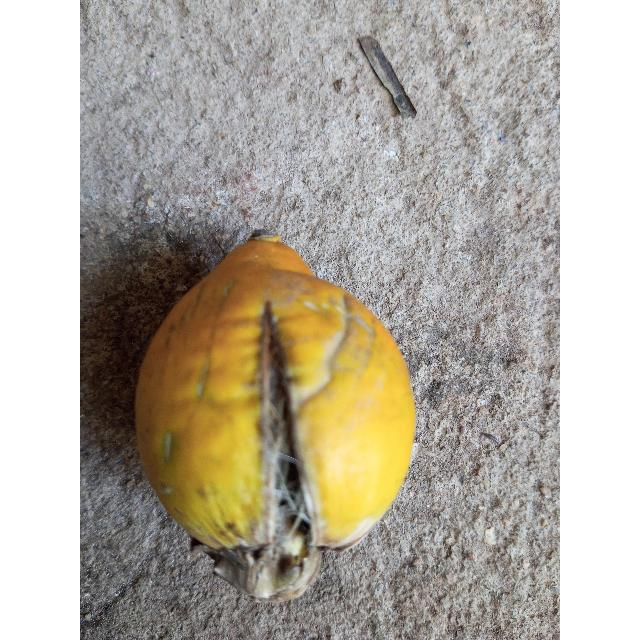damaged: (136, 231, 415, 601)
